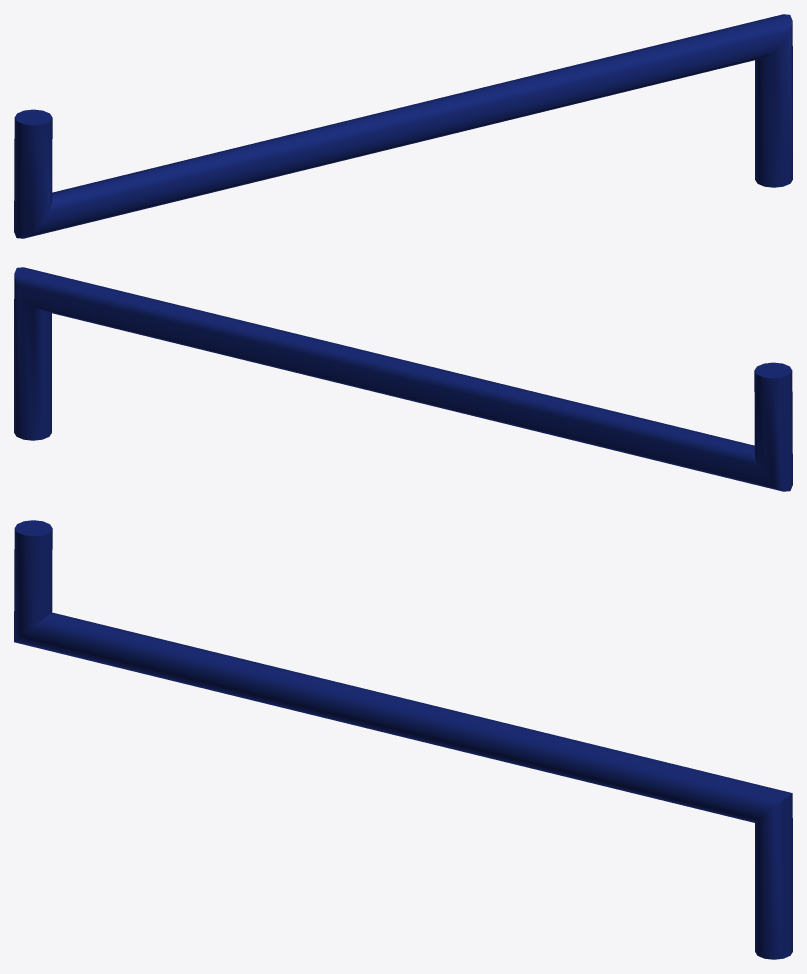
File: Tube01_Mapa01.FBX
The picture shows the model from 3 angles, top to bottom: view 1: azimuth 30°, elevation 25°; view 2: azimuth 150°, elevation 25°; view 3: azimuth 330°, elevation 25°; orthographic projection.
Visible parts, largest first — view 1: Line007; view 2: Line007; view 3: Line007.
Part boxes in pixels (x1,y1,x2,y2): Line007: [14, 14, 792, 238]; Line007: [14, 267, 792, 491]; Line007: [14, 520, 792, 959].
Size of the model in its own units: 588 by 176 by 25.
